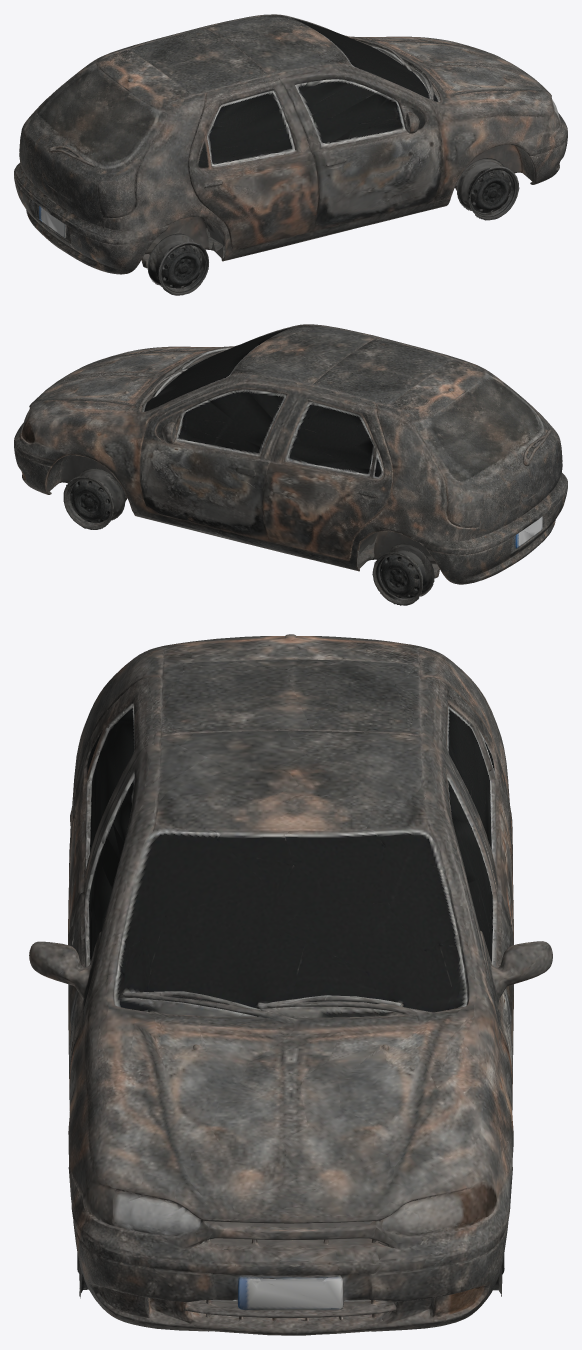
Rendered from tupiniquim-queimado__01a16dcf.glb.
3 views of the same model, one above another, from view 1: azimuth 30°, elevation 25°; view 2: azimuth 150°, elevation 25°; view 3: azimuth 270°, elevation 25° (orthographic). The views are drawn at different scales.
Visible parts, largest first — view 1: tupiniquim-queimado; view 2: tupiniquim-queimado; view 3: tupiniquim-queimado.
Boxes of the visible parts, <box> form: tupiniquim-queimado: <box>14,14,567,295</box>; tupiniquim-queimado: <box>14,324,567,605</box>; tupiniquim-queimado: <box>29,634,552,1335</box>.
Size of the model in its own units: 3.74 by 1.33 by 1.72.
1 material, 1 textured.
